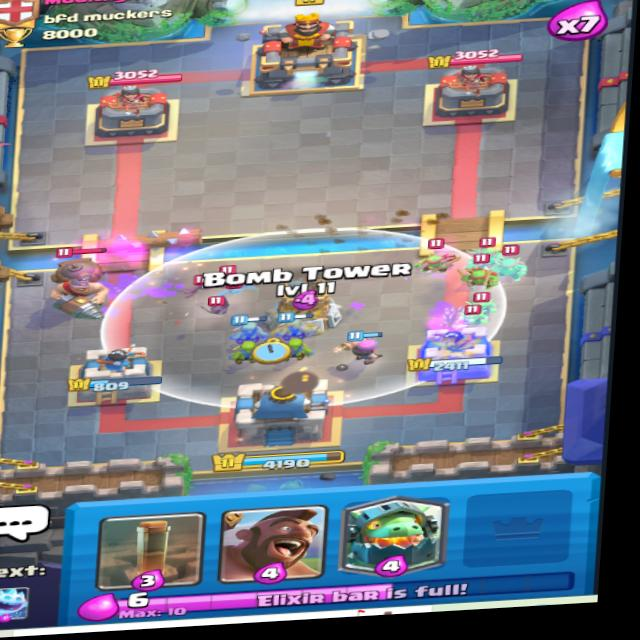Bat: (199, 293, 238, 320)
Mightyminer: (39, 242, 127, 324)
Speargoblin: (408, 241, 450, 273), (463, 261, 494, 291)
